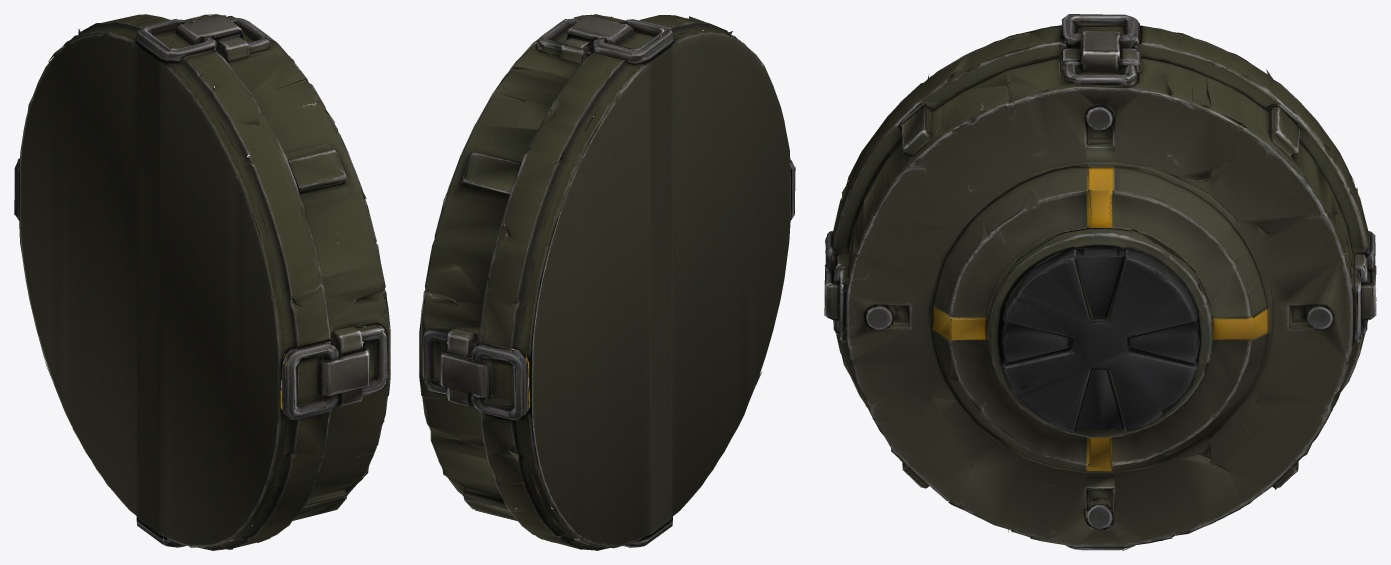
File: landmine.glb
3 views of the same model, side by side, from view 1: azimuth 30°, elevation 25°; view 2: azimuth 150°, elevation 25°; view 3: azimuth 270°, elevation 25° (orthographic).
Parts seen in each view (by area): view 1: tripo_node_35131de1-12fb-4503-8fa3-a18cf96d3fa4; view 2: tripo_node_35131de1-12fb-4503-8fa3-a18cf96d3fa4; view 3: tripo_node_35131de1-12fb-4503-8fa3-a18cf96d3fa4.
Part boxes in pixels (x1=…): tripo_node_35131de1-12fb-4503-8fa3-a18cf96d3fa4: x1=14, y1=14, x2=390, y2=550; tripo_node_35131de1-12fb-4503-8fa3-a18cf96d3fa4: x1=419, y1=14, x2=795, y2=550; tripo_node_35131de1-12fb-4503-8fa3-a18cf96d3fa4: x1=824, y1=14, x2=1376, y2=550.
Size of the model in its own units: 0.1177 by 0.3212 by 0.3207.
1 material, 1 textured.
